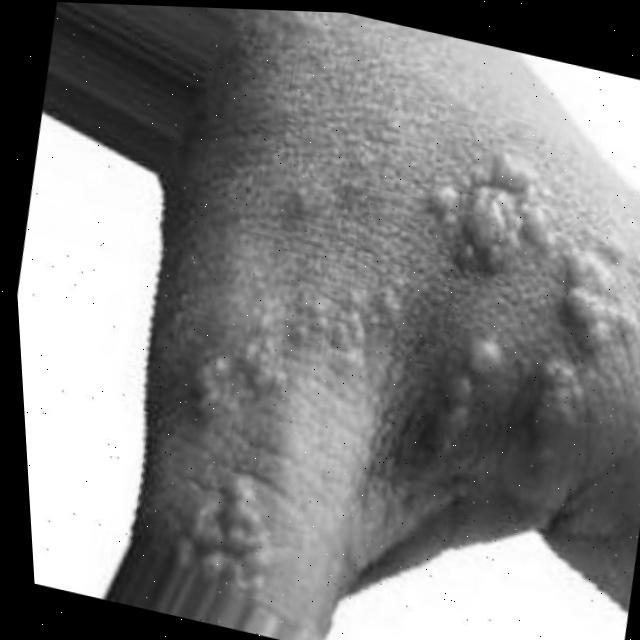Shingles: (145, 84, 640, 640)
